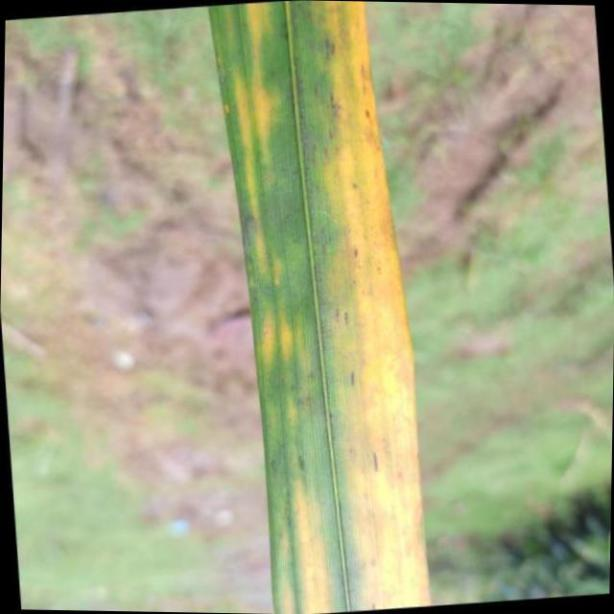Megnesium: (201, 0, 435, 614)
